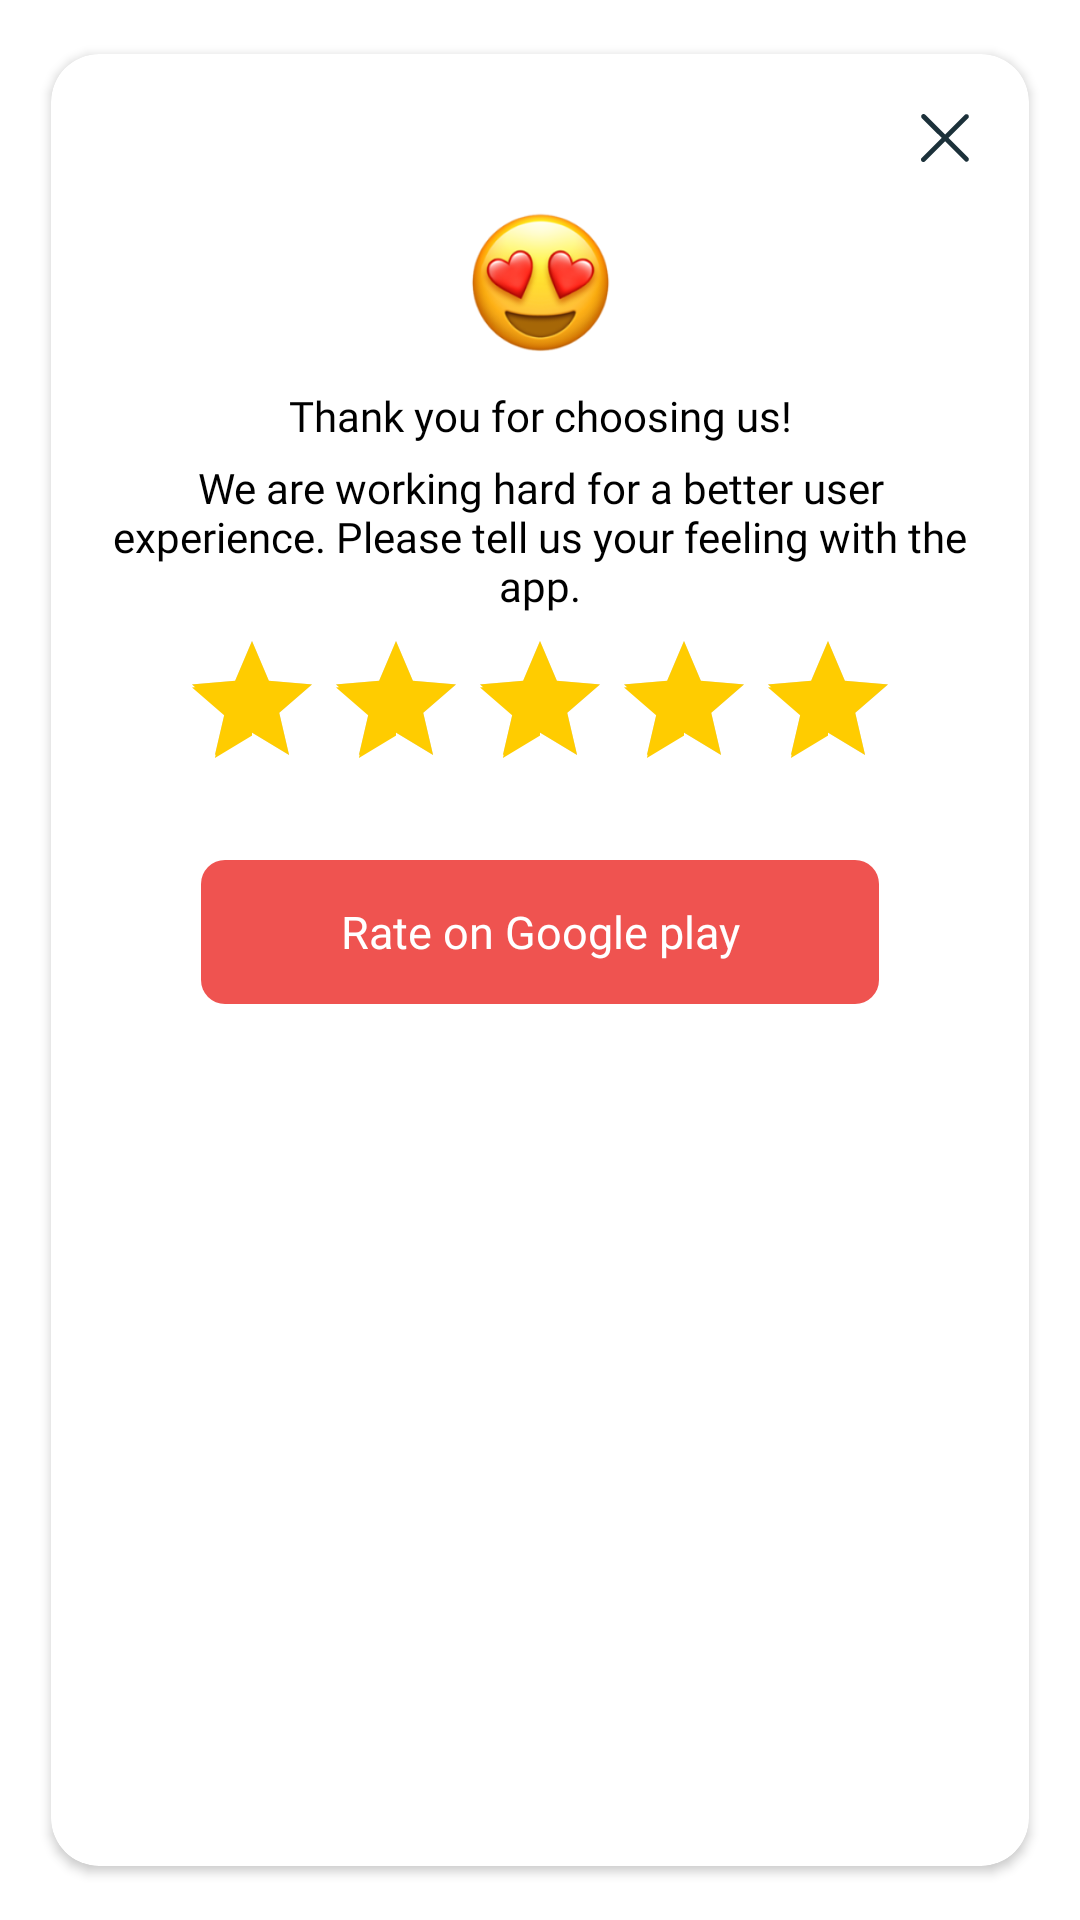

Screen size 1080w x 1920h. Icon name, then its center in pixels as (x=x, y=y):
close search: (x=945, y=138)
